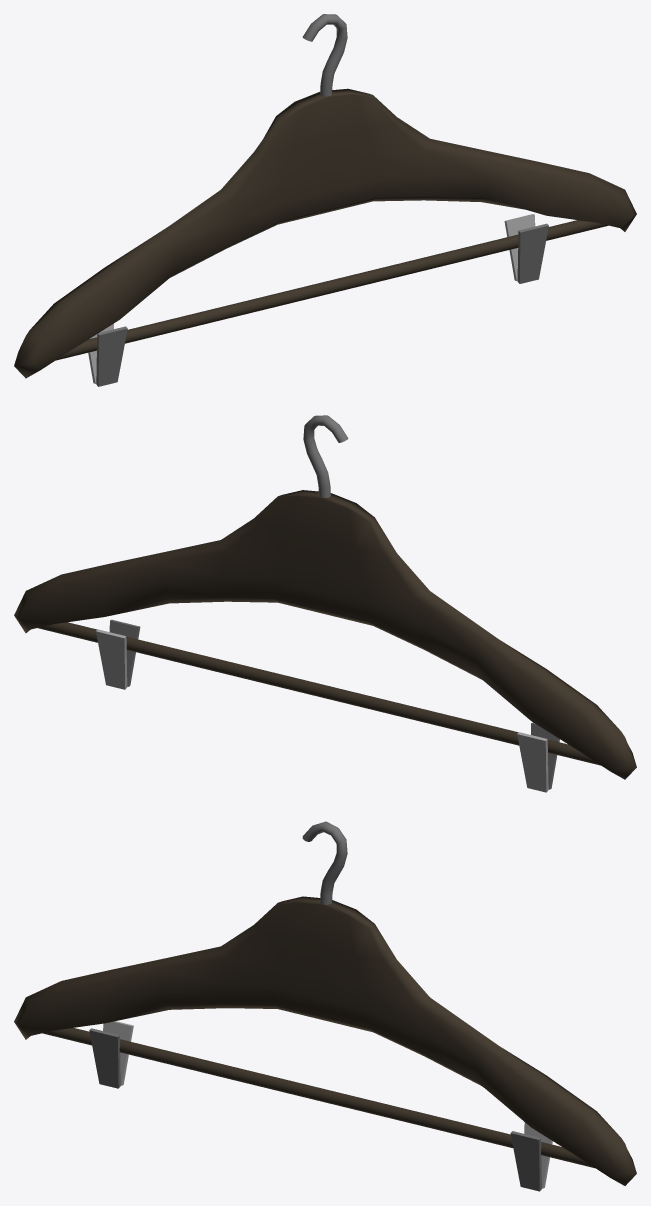
File: Hanger4.fbx
3 views of the same model, one above another, from view 1: azimuth 30°, elevation 25°; view 2: azimuth 150°, elevation 25°; view 3: azimuth 330°, elevation 25° (orthographic).
Parts seen in each view (by area): view 1: pCube24, pCylinder1, pCube27, pCube26, sweep2, pCube25; view 2: pCube24, pCylinder1, pCube28, pCube25, sweep2, pCube26; view 3: pCube24, pCylinder1, pCube27, pCube26, sweep2, pCube28.
Boxes of the visible parts, box(x1,y1,x2,y2) form: pCube24: box(14, 88, 636, 378); pCylinder1: box(56, 220, 608, 360); pCube27: box(96, 326, 127, 386); pCube26: box(517, 223, 548, 283); sweep2: box(302, 14, 347, 96); pCube25: box(504, 214, 535, 280); pCube24: box(14, 490, 636, 779); pCylinder1: box(38, 622, 600, 765); pCube28: box(517, 732, 548, 792); pCube25: box(96, 629, 127, 689); sweep2: box(303, 415, 348, 497); pCube26: box(109, 619, 140, 686); pCube24: box(14, 896, 636, 1185); pCylinder1: box(42, 1028, 594, 1168); pCube27: box(89, 1028, 120, 1088); pCube26: box(510, 1131, 541, 1191); sweep2: box(302, 821, 347, 904); pCube28: box(103, 1021, 133, 1085).
Bounding box in the file's own units: 32.55 × 15.86 × 1.91.
